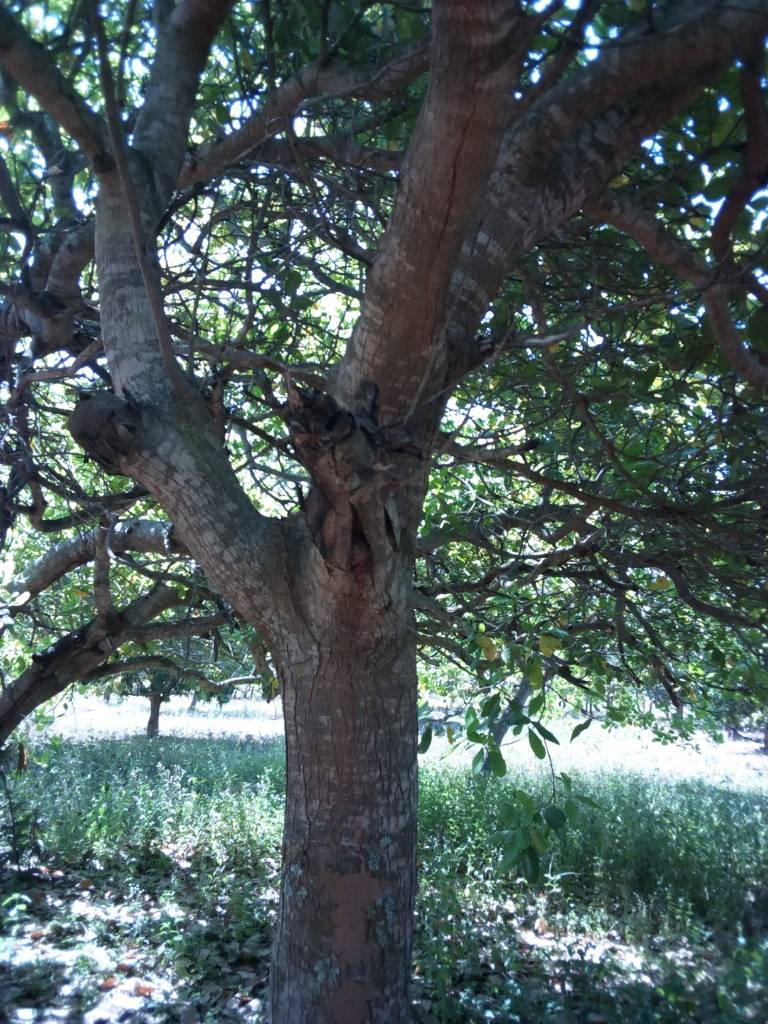Termites: (319, 866, 386, 1024)
